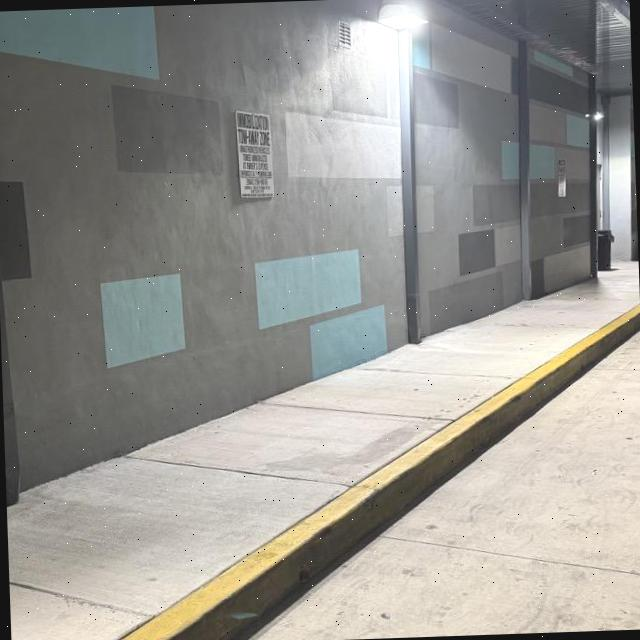curb: (116, 304, 640, 640)
